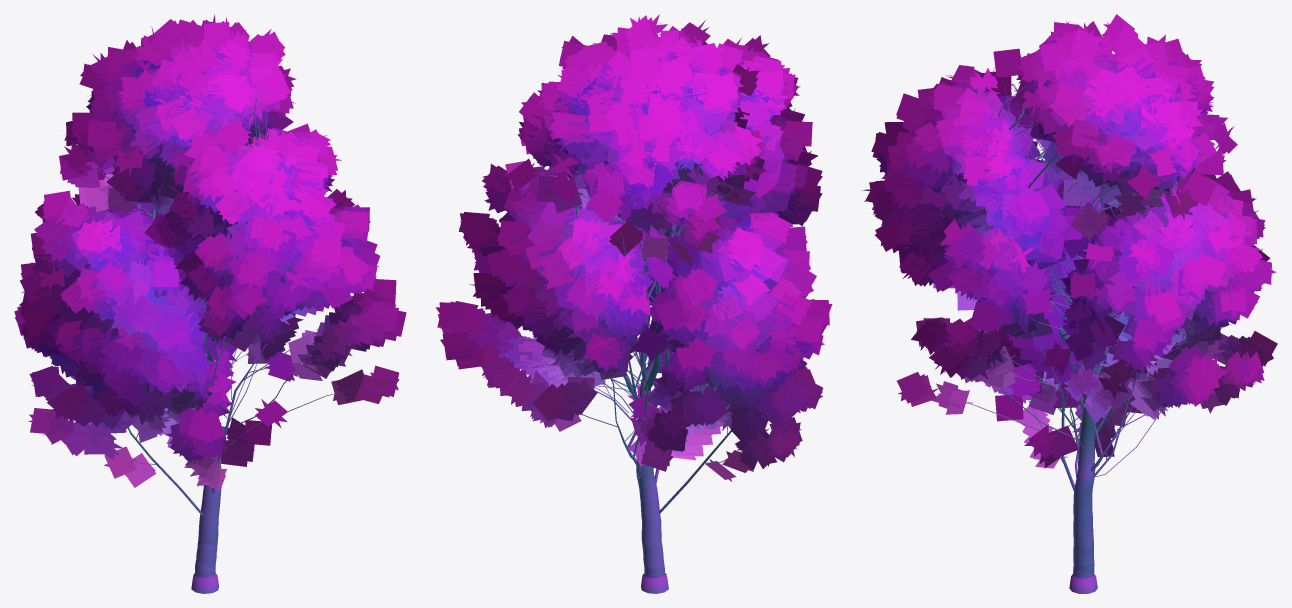
The model's file is tree_birch_s8_a30.fbx.
3 renders of one model, left to right at view 1: azimuth 30°, elevation 25°; view 2: azimuth 150°, elevation 25°; view 3: azimuth 270°, elevation 25°, orthographic.
Visible parts, largest first — view 1: tree_birch_s8_a30_leaves, tree_birch_s8_a30_branches; view 2: tree_birch_s8_a30_leaves, tree_birch_s8_a30_branches; view 3: tree_birch_s8_a30_leaves, tree_birch_s8_a30_branches.
Part boxes in pixels (x1,y1,x2,y2): tree_birch_s8_a30_leaves: (14,14,406,491); tree_birch_s8_a30_branches: (77,78,356,593); tree_birch_s8_a30_leaves: (435,14,832,481); tree_birch_s8_a30_branches: (487,45,759,593); tree_birch_s8_a30_leaves: (861,14,1277,468); tree_birch_s8_a30_branches: (931,43,1232,593).
Size of the model in its own units: 7.14 by 11.7 by 7.83.
